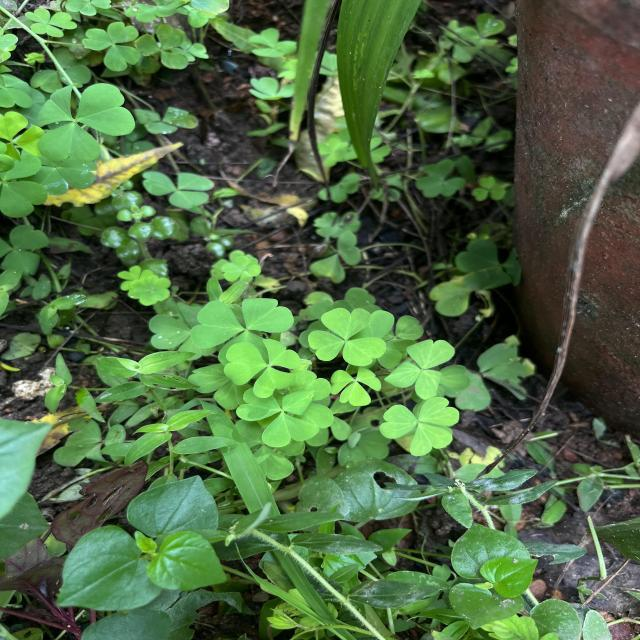Oxalis corniculata: (34, 82, 136, 165), (190, 297, 294, 349), (378, 396, 461, 457), (236, 388, 319, 448), (223, 338, 303, 398), (307, 308, 386, 367), (384, 338, 456, 401), (81, 21, 142, 72), (142, 170, 215, 210), (330, 366, 382, 407), (24, 7, 78, 38)
